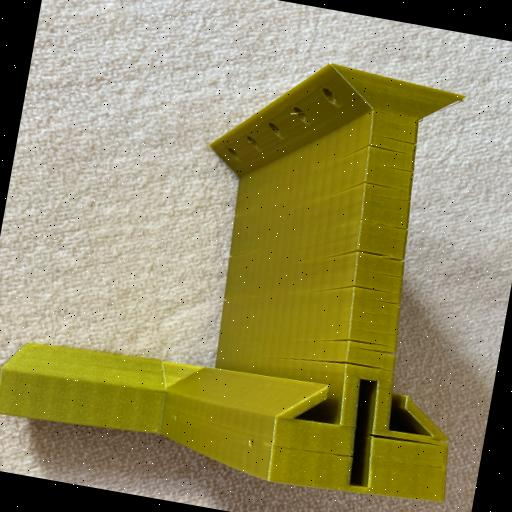cracks: (262, 320, 396, 386), (271, 159, 406, 218), (312, 230, 400, 270), (306, 272, 393, 308)
